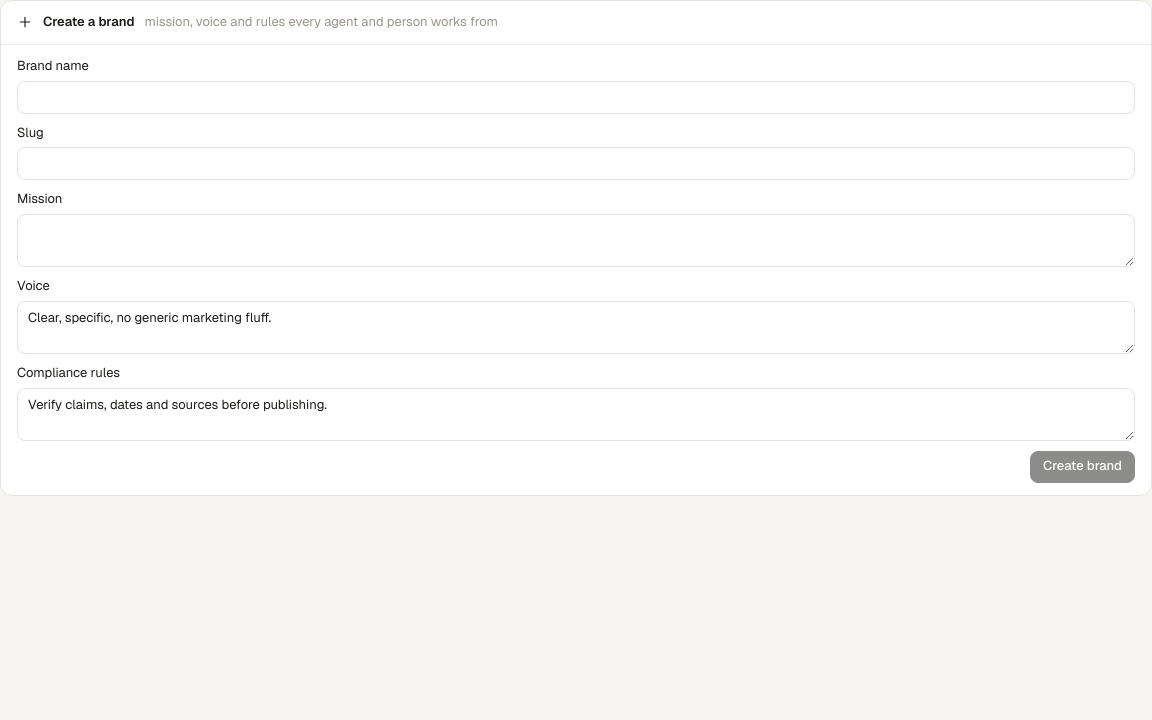
it: NewBrandCard › shows a conflict instead of navigating
Type "Taken" into the field labelled "Brand name".
click(576, 97); type("Taken")  # box top-left (17, 81), bottom-right (1135, 114)
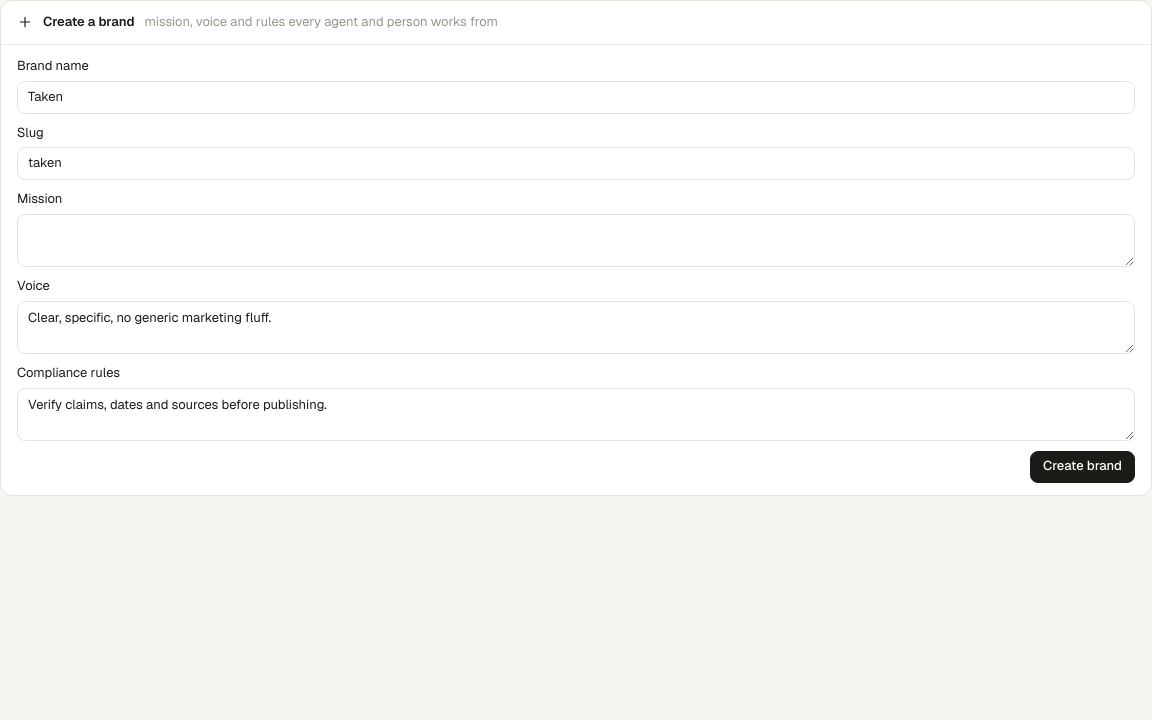
Type "x" into the text box labelled "Mission".
click(576, 241); type("x")  # box top-left (17, 214), bottom-right (1135, 267)
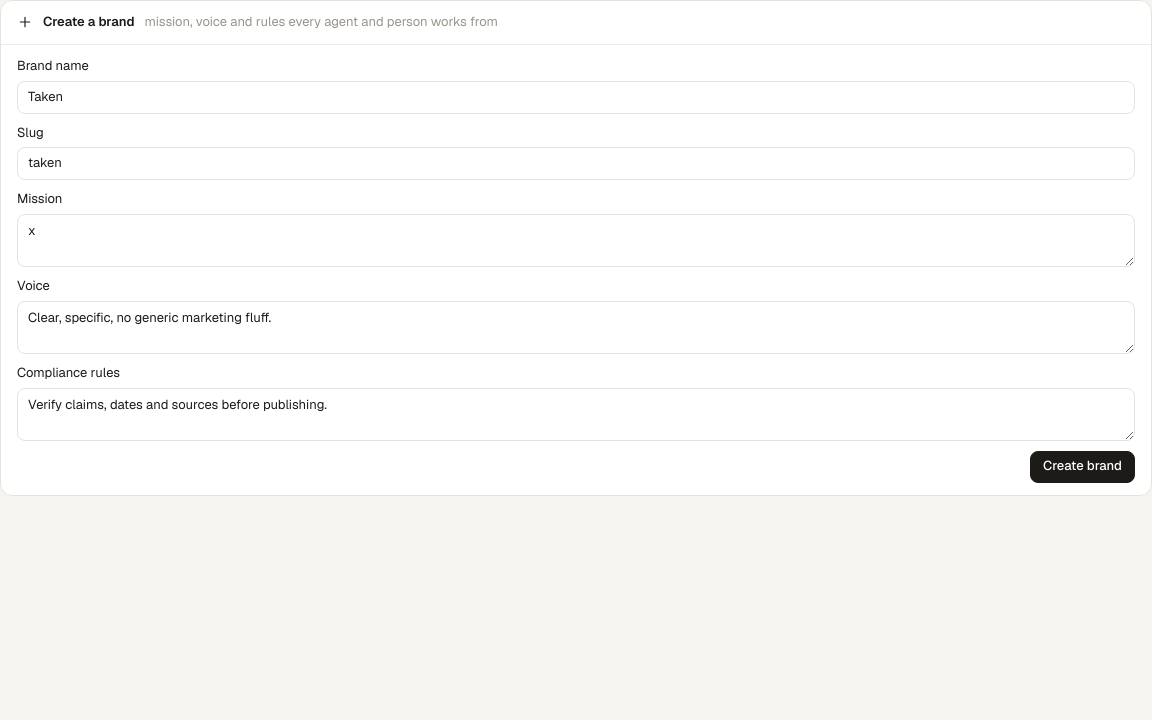
Click the button "Create brand".
click(1083, 467)  # box top-left (1030, 451), bottom-right (1135, 483)
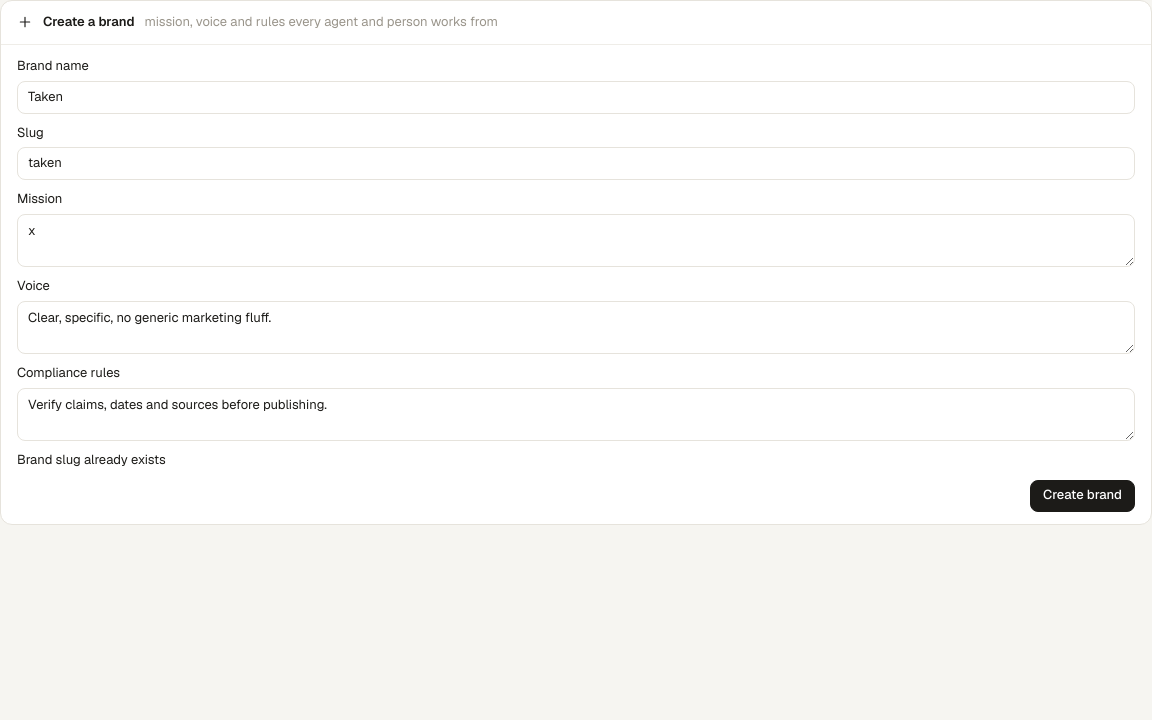
expect the message shows "already exists": met, box top-left (17, 451), bottom-right (166, 468)
